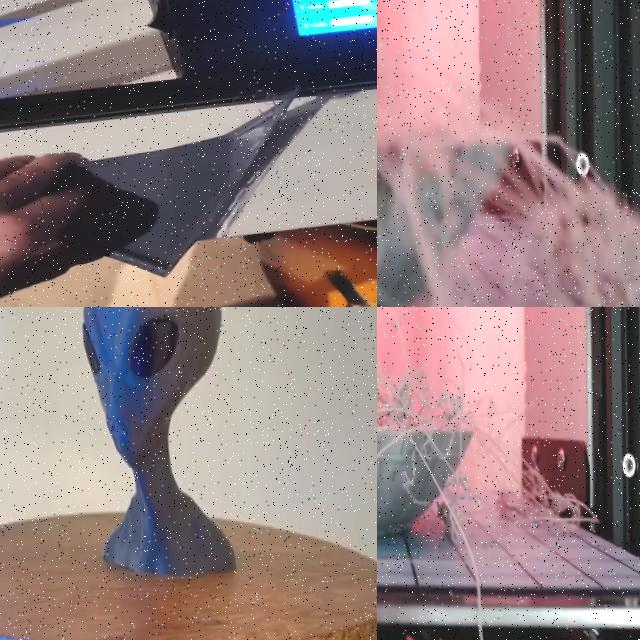spaghetti: (377, 0, 640, 307), (377, 307, 617, 640)
